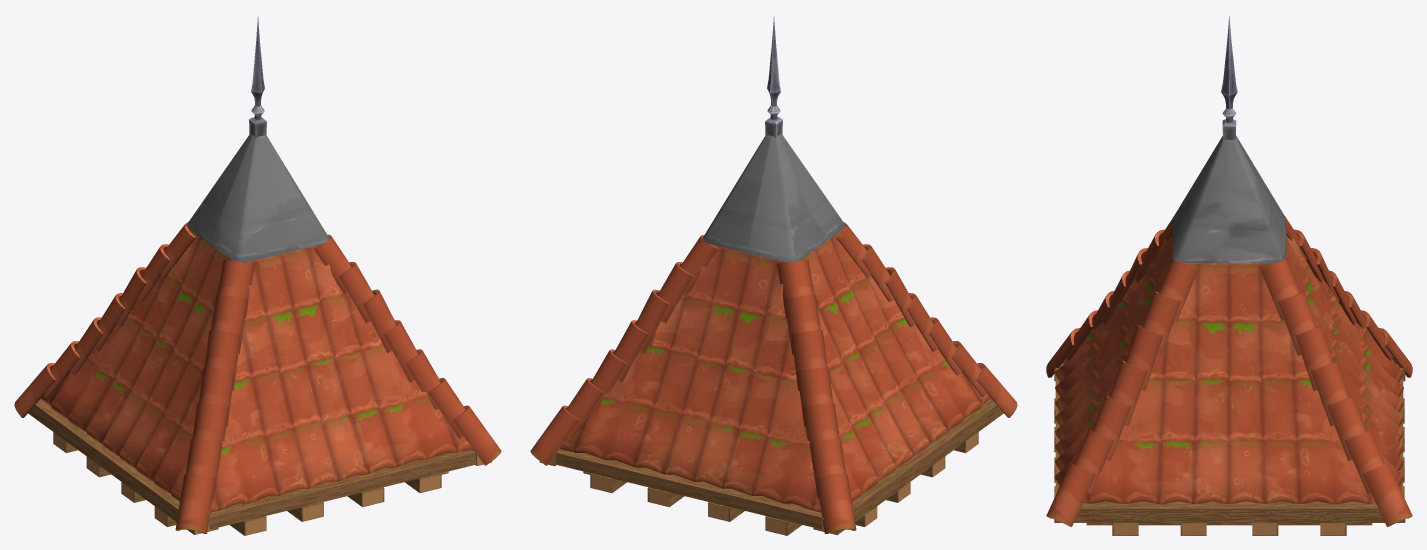
The model's file is Roof_Tower_RoundTiles.gltf.
The picture shows the model from 3 angles, left to right: view 1: azimuth 30°, elevation 25°; view 2: azimuth 150°, elevation 25°; view 3: azimuth 270°, elevation 25°; orthographic projection. The views are drawn at different scales.
Parts seen in each view (by area): view 1: Roof_Tower_RoundTiles; view 2: Roof_Tower_RoundTiles; view 3: Roof_Tower_RoundTiles.
Boxes of the visible parts, left/top/right/bottom form: Roof_Tower_RoundTiles: left=14, top=16, right=501, bottom=535; Roof_Tower_RoundTiles: left=530, top=16, right=1017, bottom=535; Roof_Tower_RoundTiles: left=1046, top=16, right=1412, bottom=535.
Size of the model in its own units: 5.65 by 7.36 by 5.43.
4 materials, 4 textured.
